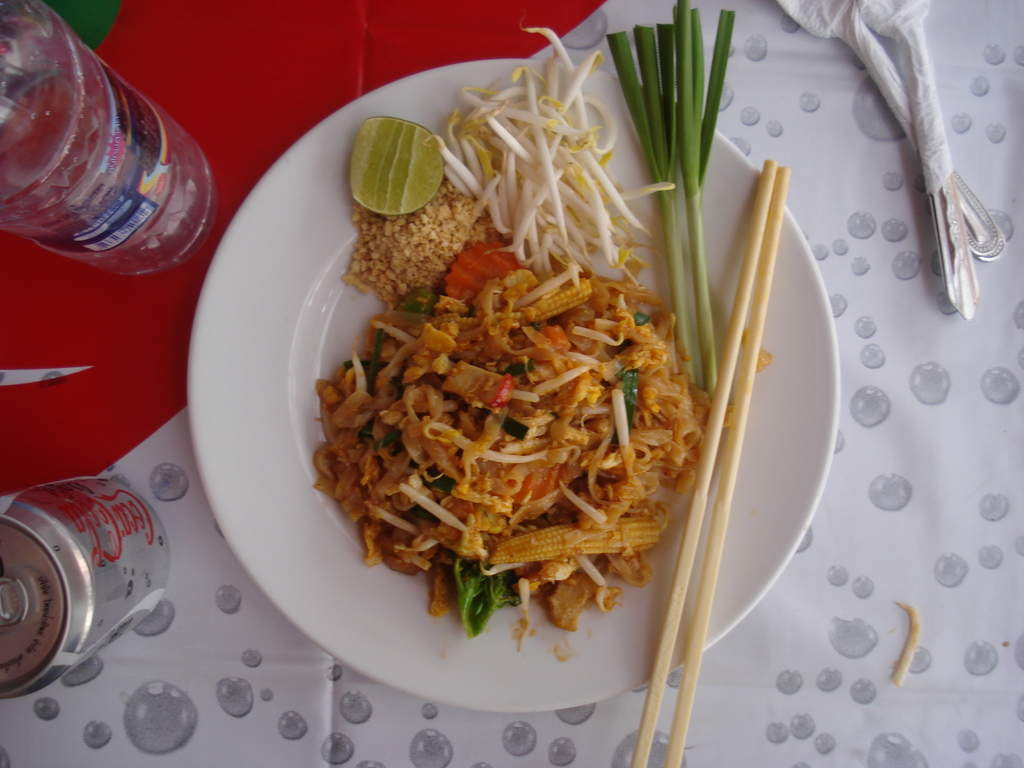pasta: (308, 216, 696, 637)
